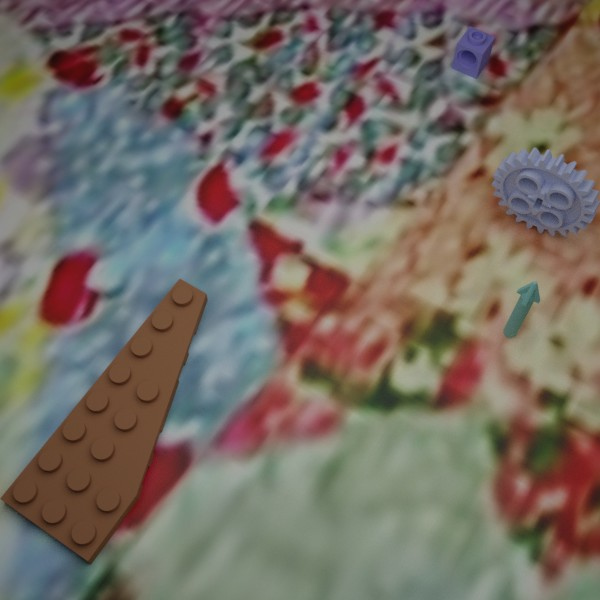lego: (0, 278, 207, 564), (491, 147, 600, 236), (451, 26, 495, 79), (503, 281, 540, 338)
